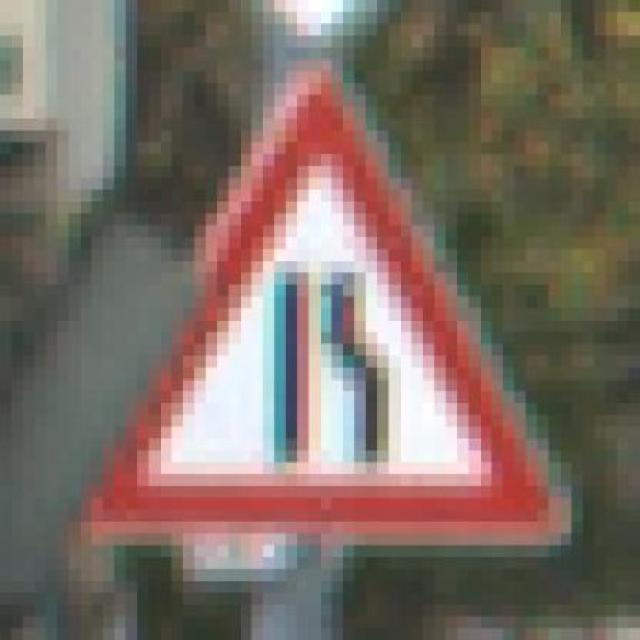-Road narrows on right: (46, 48, 594, 569)
